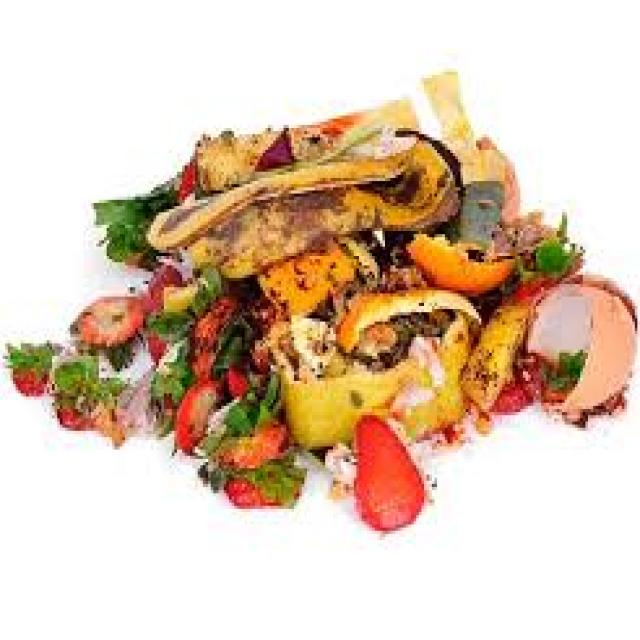food_waste: (178, 157, 573, 476)
